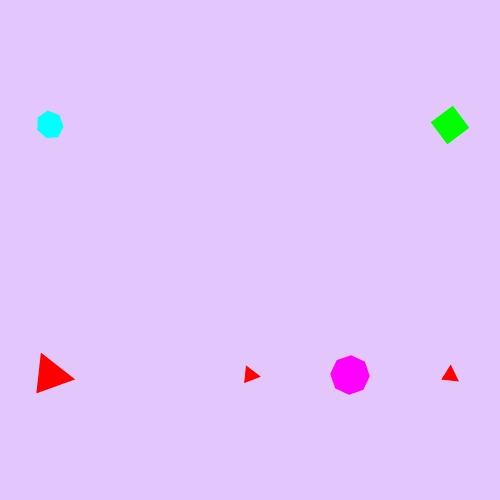heptagon: (32, 108, 68, 142)
octagon: (327, 352, 374, 399)
quadrilateral: (427, 102, 473, 148)
triangle: (28, 352, 72, 398), (238, 362, 263, 388), (438, 362, 463, 388)
